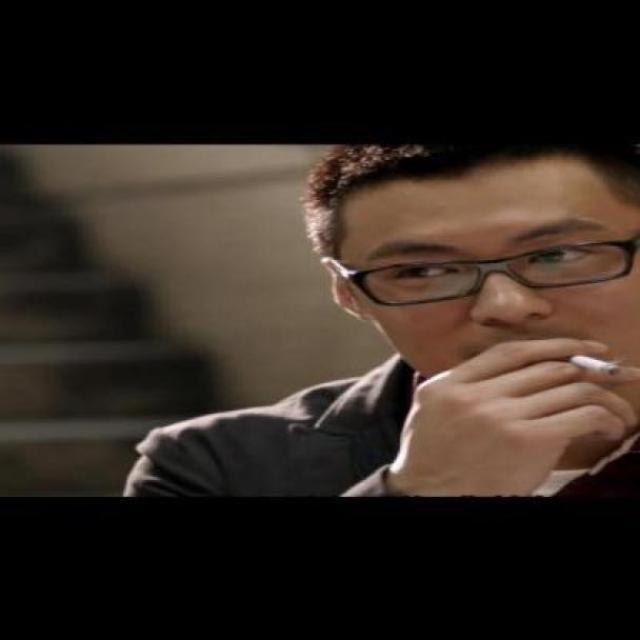rokok: (559, 342, 623, 383)
